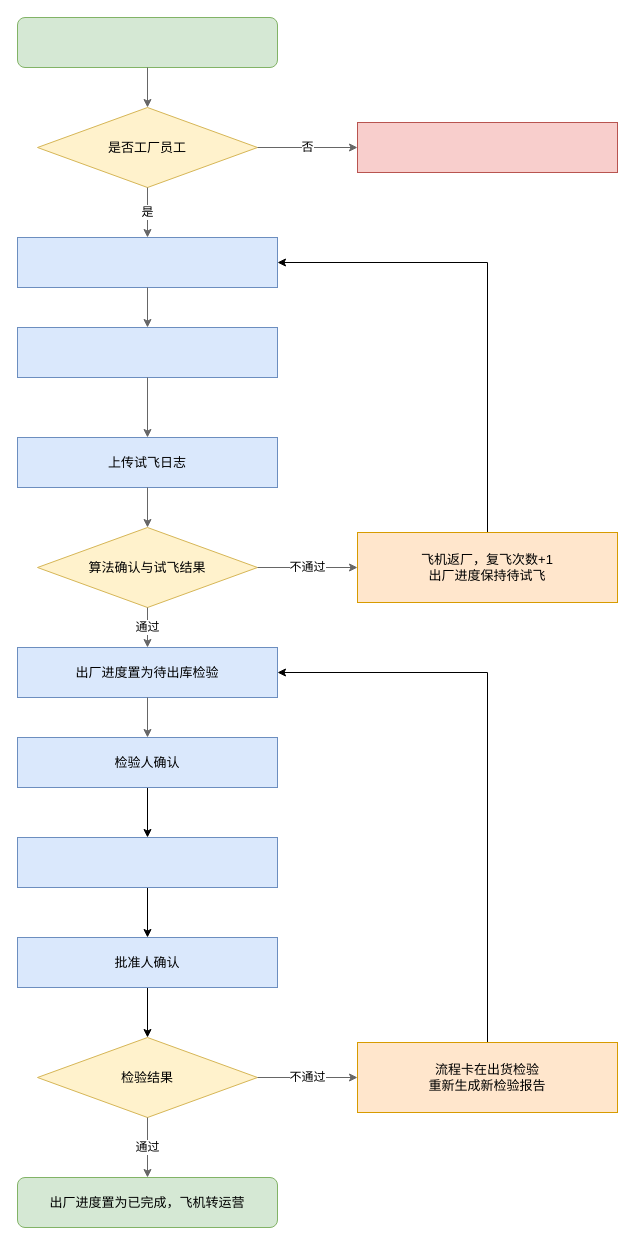
Image size: 635x1245. Some labels were removed from this diagram. Here are the shapes that lost their labels. From the top down, the centre of each, then its label:
At (x=147, y=42): "扫描机身二维码登录".
At (x=487, y=147): "提示无权限".
At (x=147, y=262): "加载该飞机机型的出厂表单模板".
At (x=147, y=352): "试飞填写：机长逐项填写并确认".
At (x=147, y=862): "审核人确认".
